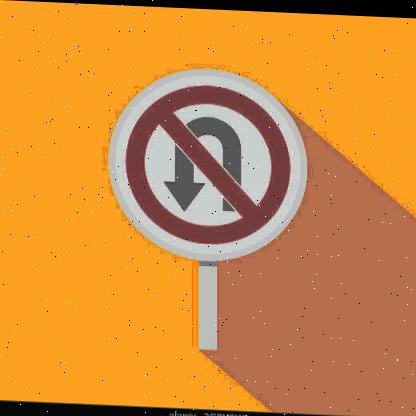No U-turn: (123, 68, 303, 253)
